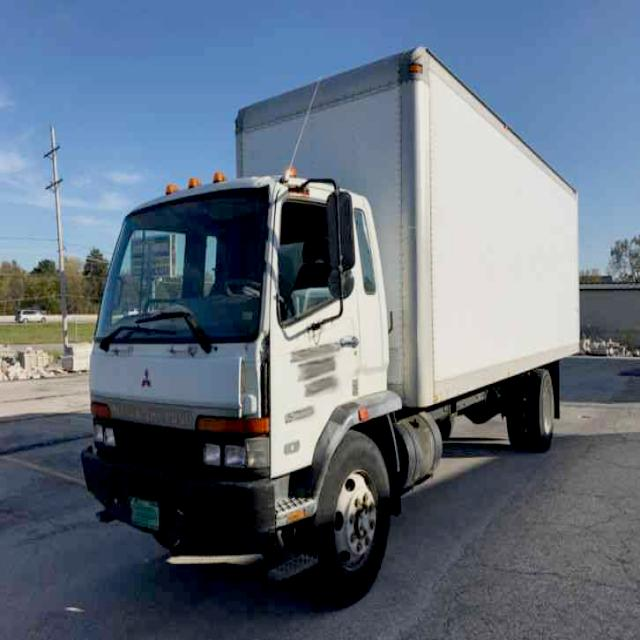truck: (83, 43, 581, 599)
